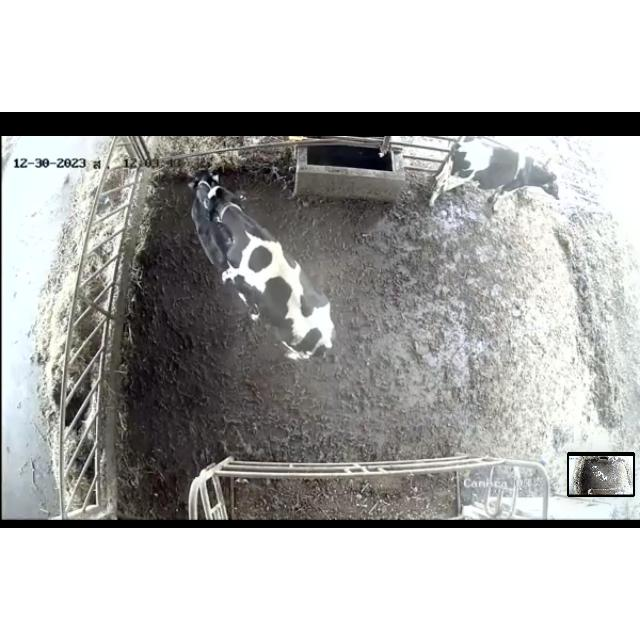ride: (194, 182, 358, 374)
